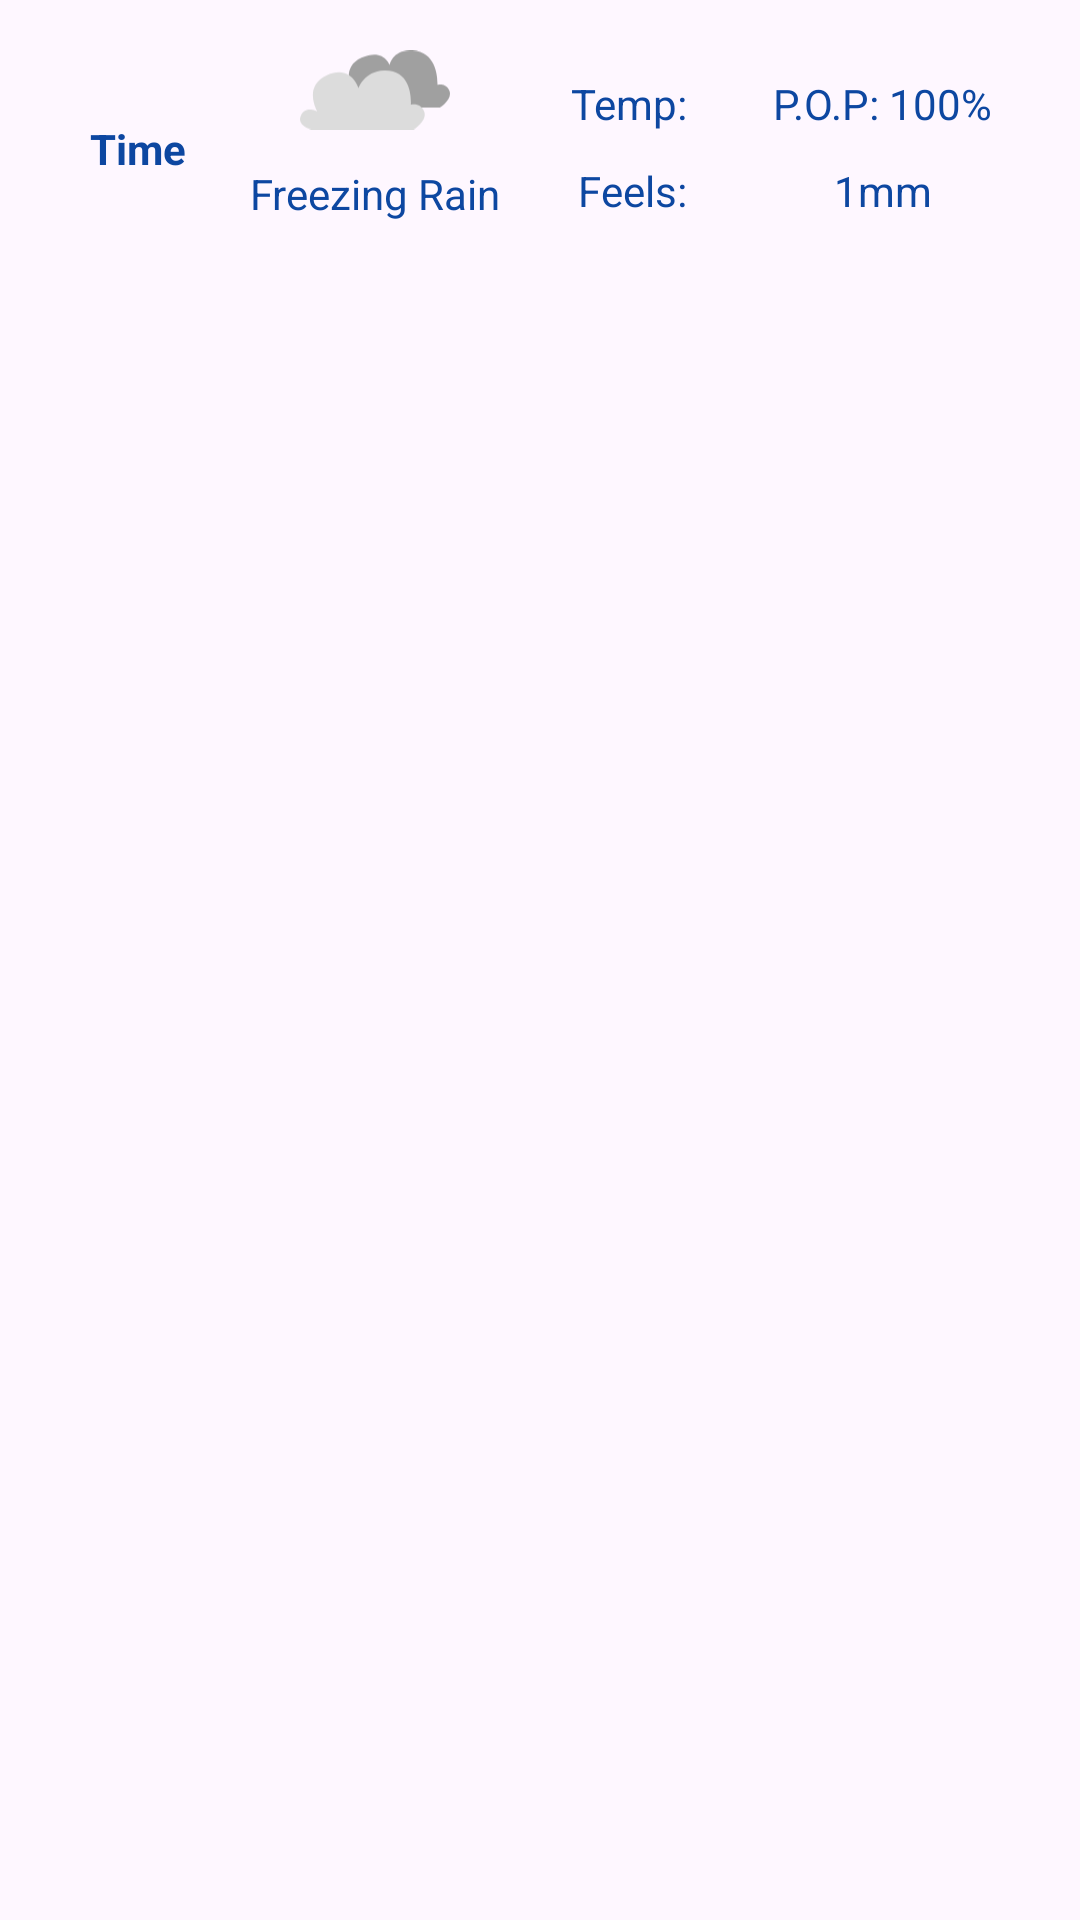

Screen size 1080x1920. Icon name, then its box in pixels as (x1, y1, x2, y2):
clouds: (300, 50, 450, 130)
